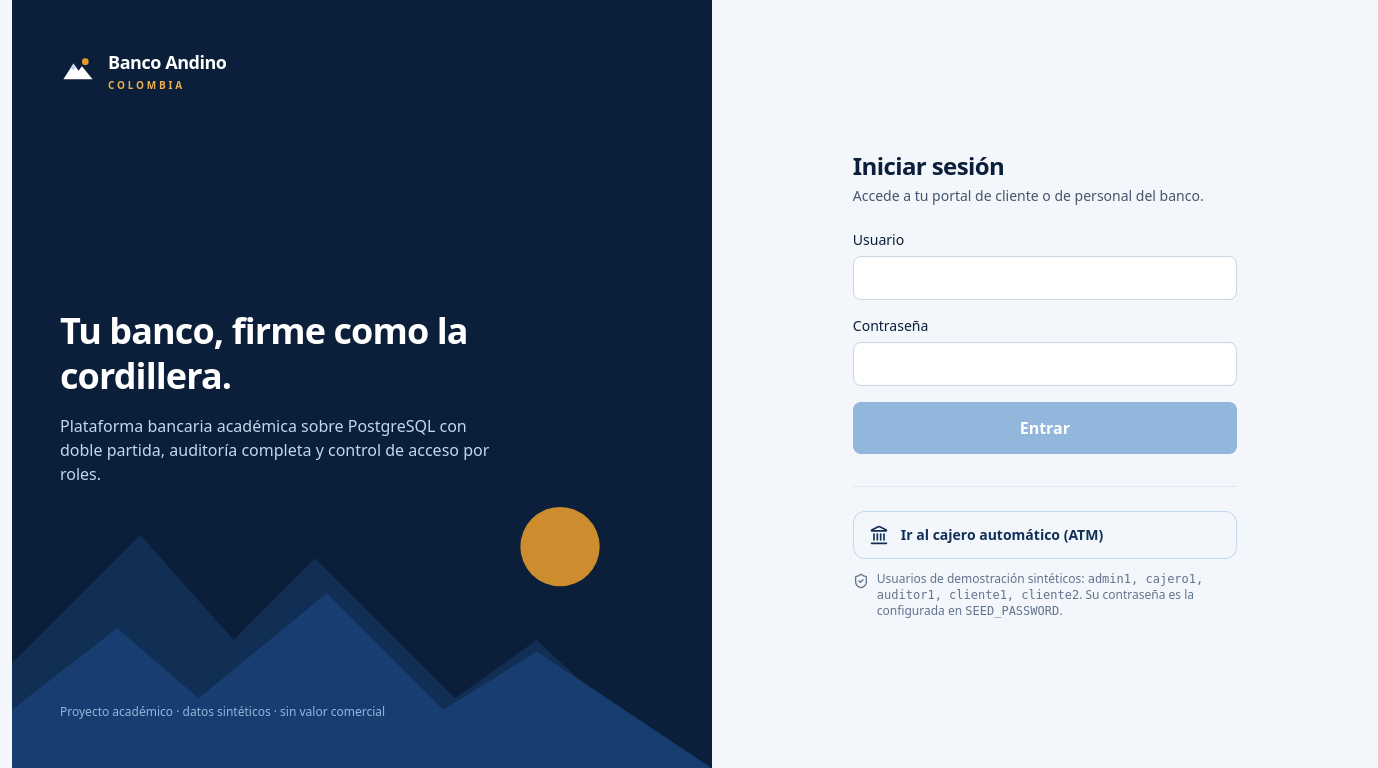
Test: pantalla de login › el boton Entrar esta deshabilitado hasta completar ambos campos
Expected: the button "Entrar" is disabled, [853,402,1237,454]
In the field labelled "Usuario": (1045, 278) [853,256,1237,300], type "a1"
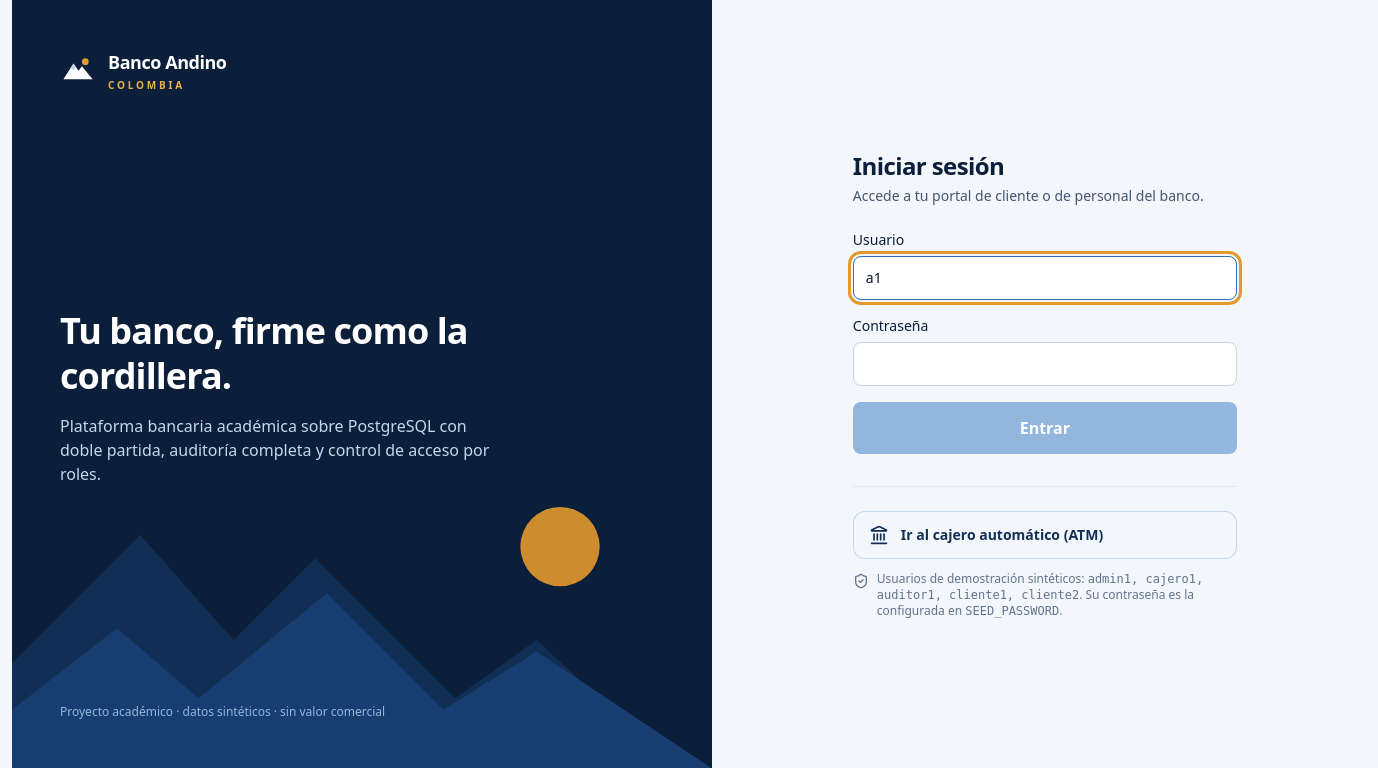
Expected: the button "Entrar" is disabled, [853,402,1237,454]
In the password field labelled "Contraseña": (1045, 364) [853,342,1237,386], type "x"
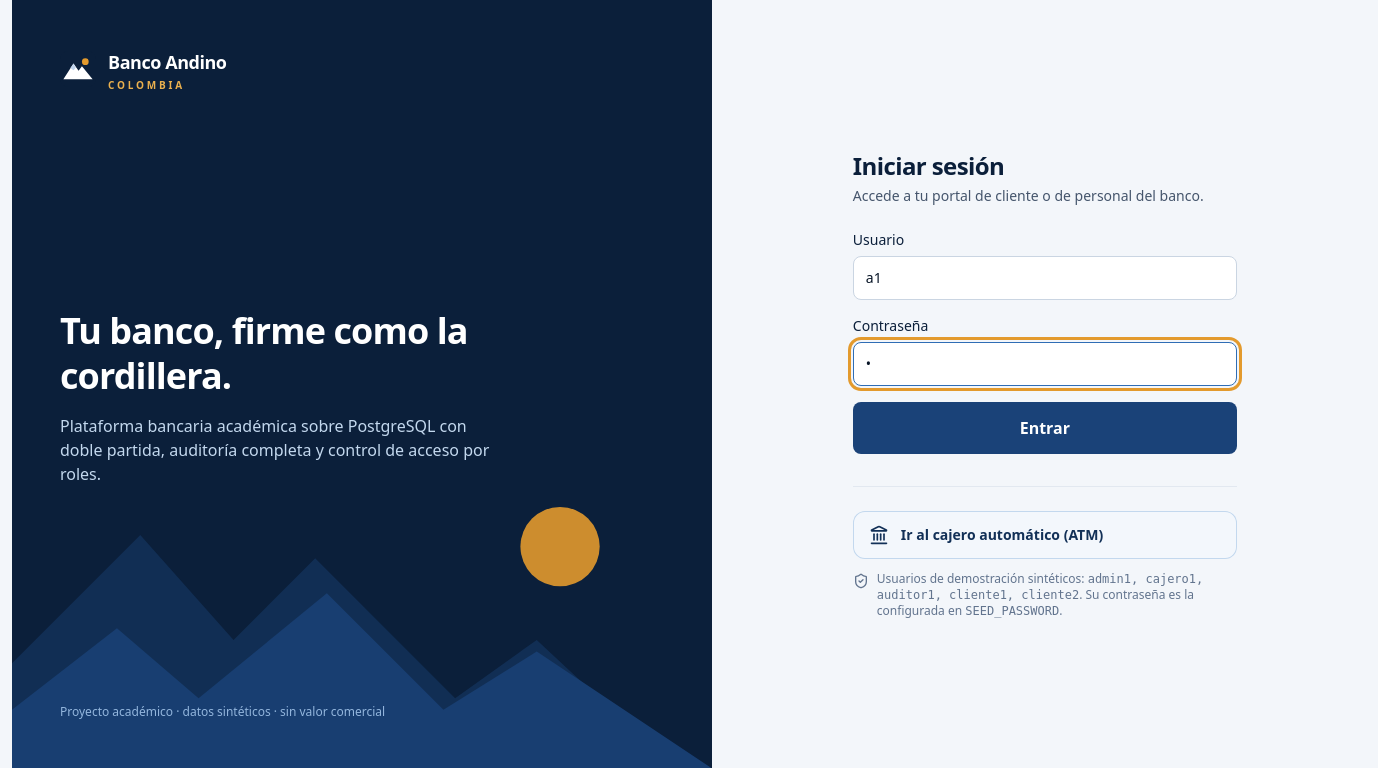
Expected: the button "Entrar" is enabled, [853,402,1237,454]
